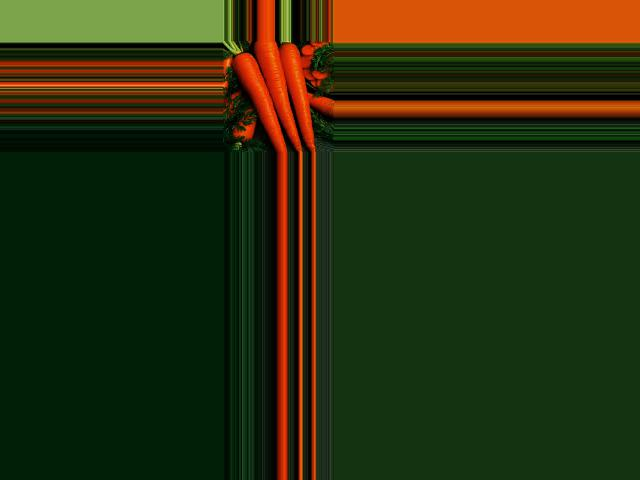carrot: (230, 54, 287, 150)
